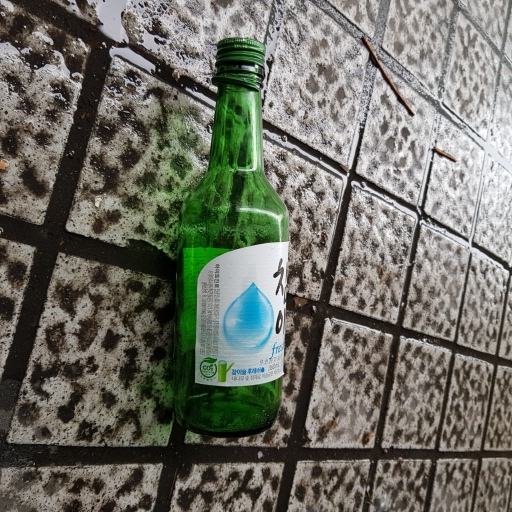Glass_0: (174, 33, 288, 437)
